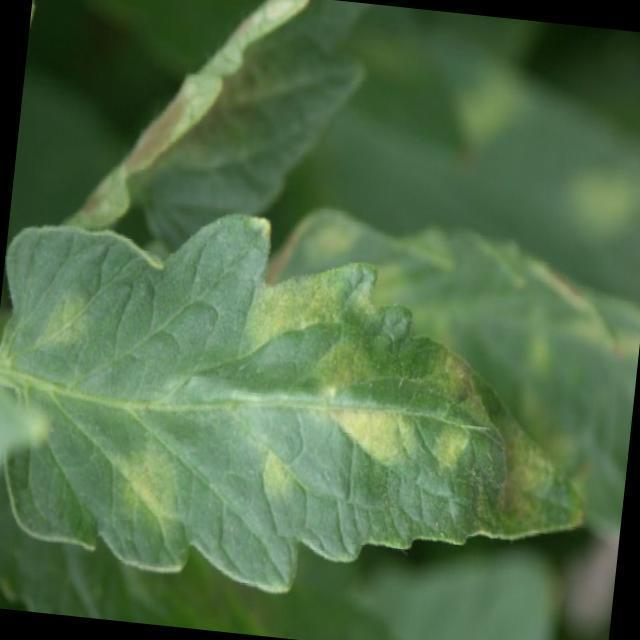Mosaic Virus: (0, 218, 612, 613)
